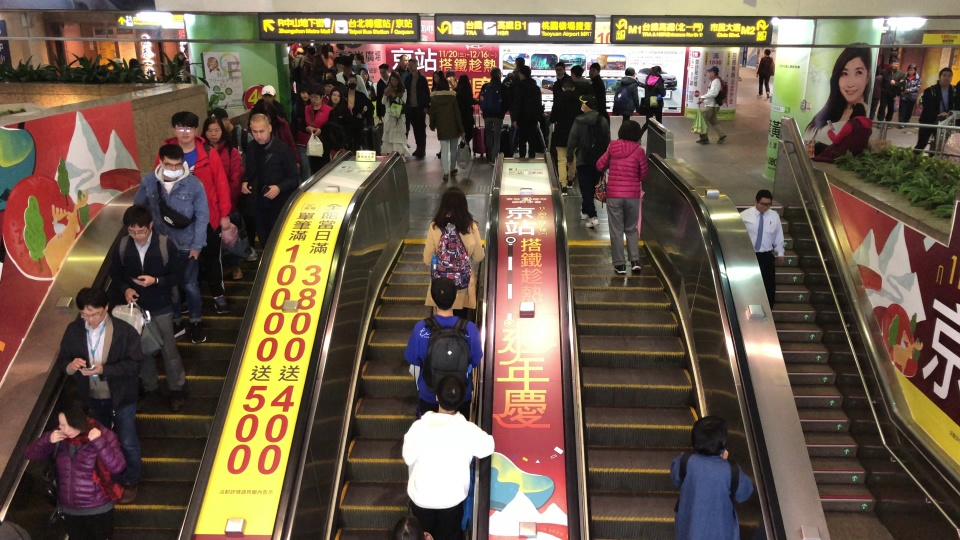person_head: (689, 414, 729, 452), (73, 286, 109, 326), (119, 202, 153, 243), (53, 400, 90, 437), (432, 374, 465, 413), (429, 276, 459, 311), (157, 143, 185, 178), (172, 110, 199, 143), (439, 185, 469, 213), (248, 112, 272, 144), (202, 117, 226, 142), (616, 119, 642, 141), (754, 188, 772, 211), (258, 103, 277, 124), (578, 94, 598, 112), (213, 107, 230, 128), (308, 83, 324, 104), (260, 83, 276, 103), (588, 60, 601, 78), (388, 70, 402, 86), (569, 64, 585, 78), (851, 101, 865, 117), (339, 57, 352, 74), (517, 66, 532, 80), (560, 78, 574, 92), (705, 65, 719, 79), (377, 62, 389, 78), (323, 78, 335, 94), (329, 87, 341, 103), (554, 60, 565, 77), (435, 78, 448, 92), (127, 56, 139, 70), (432, 69, 444, 83), (398, 53, 409, 68), (112, 57, 124, 70), (407, 57, 419, 70), (457, 73, 469, 86), (514, 56, 526, 69), (346, 75, 357, 89), (889, 55, 900, 69), (907, 62, 918, 76), (353, 51, 365, 63), (299, 85, 308, 101), (489, 67, 502, 78), (358, 67, 369, 79), (324, 69, 335, 80), (624, 66, 635, 77), (306, 46, 316, 56), (652, 64, 661, 75), (874, 64, 883, 75), (176, 51, 185, 60), (446, 68, 455, 77), (762, 48, 772, 56), (321, 44, 329, 53), (336, 43, 344, 51), (296, 47, 303, 55)
person_vbox: (57, 286, 143, 505), (107, 202, 187, 413), (153, 109, 232, 315), (399, 374, 495, 540), (133, 143, 212, 343), (24, 399, 127, 540), (401, 275, 484, 419), (669, 414, 753, 540), (419, 185, 485, 321), (595, 119, 649, 275), (240, 112, 298, 248), (211, 107, 258, 262), (201, 116, 243, 280), (566, 94, 611, 229), (739, 187, 786, 309), (809, 101, 873, 163), (246, 102, 301, 171), (428, 78, 465, 180), (548, 77, 579, 197), (298, 83, 335, 170), (912, 82, 955, 156), (507, 66, 541, 158), (478, 67, 509, 166), (695, 65, 731, 147), (403, 56, 430, 157), (342, 74, 375, 151), (381, 69, 407, 162), (875, 56, 905, 129), (452, 73, 478, 157), (640, 65, 666, 145), (291, 85, 310, 182), (430, 69, 450, 158), (328, 87, 353, 158), (611, 65, 640, 124), (393, 53, 410, 148), (897, 62, 920, 129), (335, 56, 369, 95), (254, 87, 287, 123), (588, 60, 608, 109), (755, 48, 775, 97), (391, 513, 424, 540), (551, 60, 570, 100), (376, 64, 390, 118), (870, 64, 883, 119), (357, 67, 378, 100), (291, 47, 306, 92), (303, 46, 321, 78), (568, 63, 589, 89), (320, 44, 334, 68), (353, 52, 369, 71), (445, 67, 456, 88)
